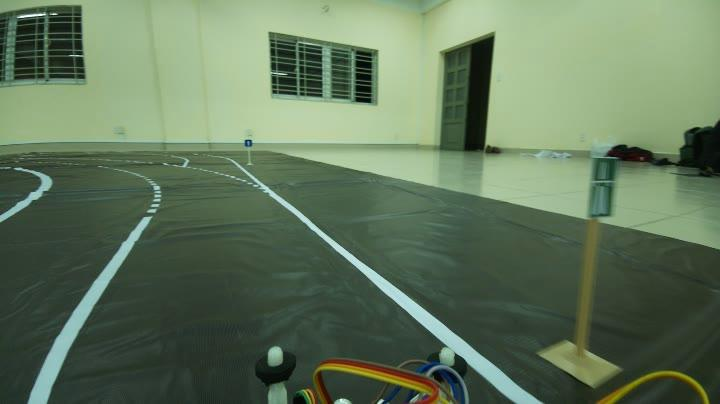highway_entry: (580, 150, 628, 224)
